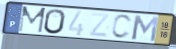4: (67, 10, 86, 38)
C: (110, 13, 134, 41)
M: (17, 5, 47, 34), (130, 14, 160, 43)
O: (43, 8, 67, 36)
Z: (88, 12, 112, 39)
